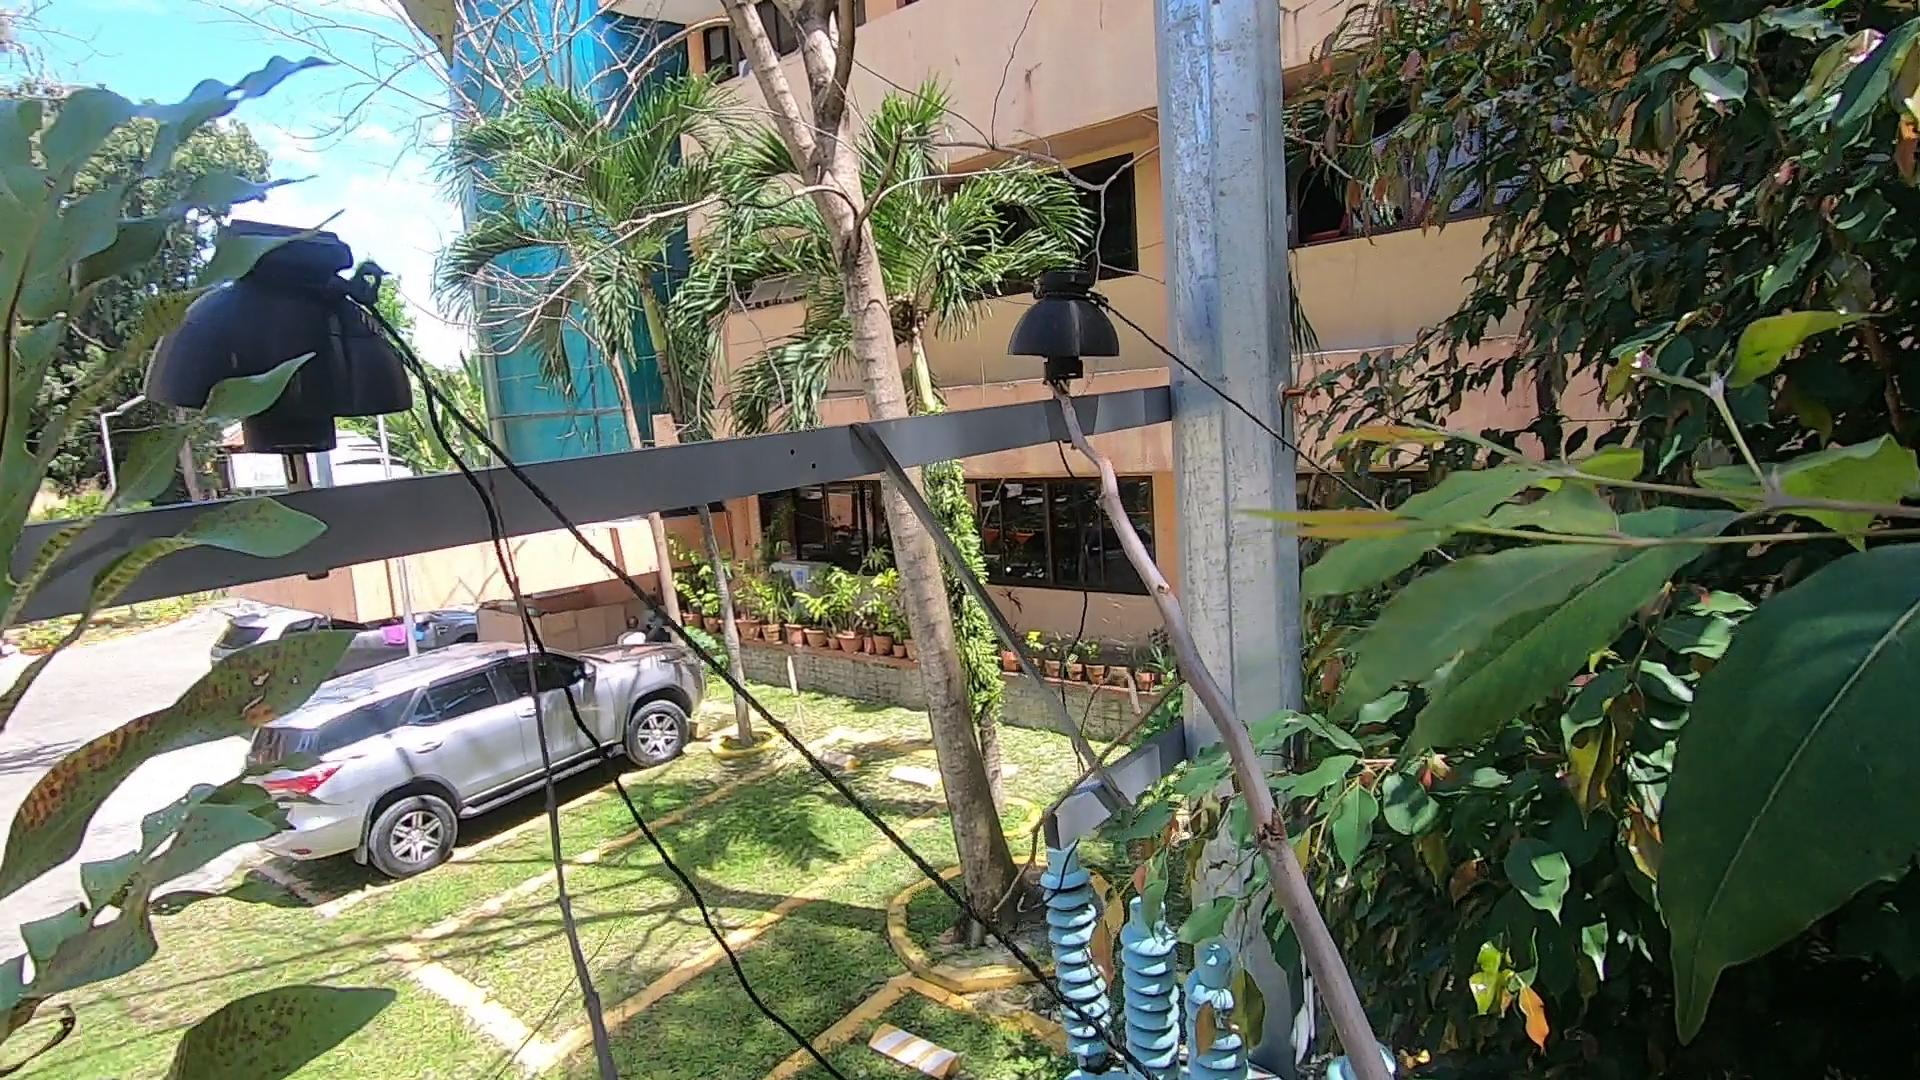branch with leaves: (1141, 713, 1428, 1051)
leaf: (3, 55, 451, 942)
tree branch: (1040, 345, 1419, 1080)
